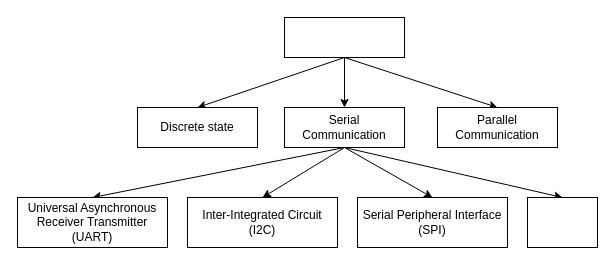
This 615x265 diagram has some shape labels left out. The shapes that lost their labels are listed below. From the top down, each one's centre as x and y in pixels, then its label:
(x=344, y=37): Digital
(x=562, y=222): 1-Wire
